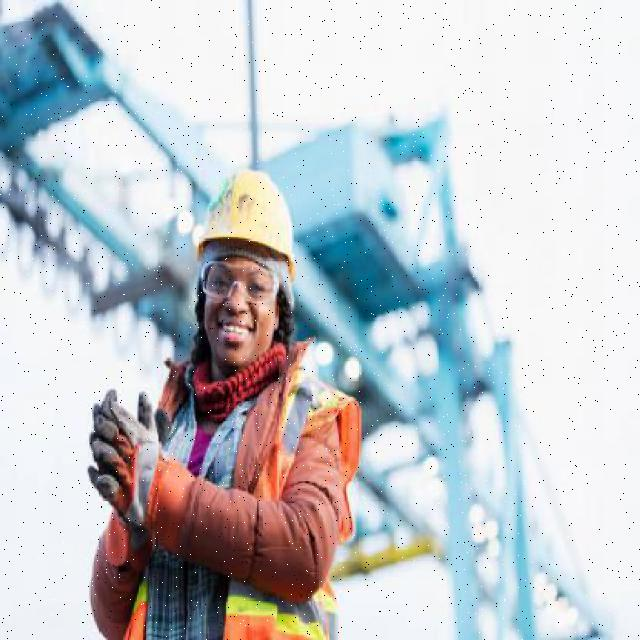Hard_hat: (197, 172, 303, 266)
